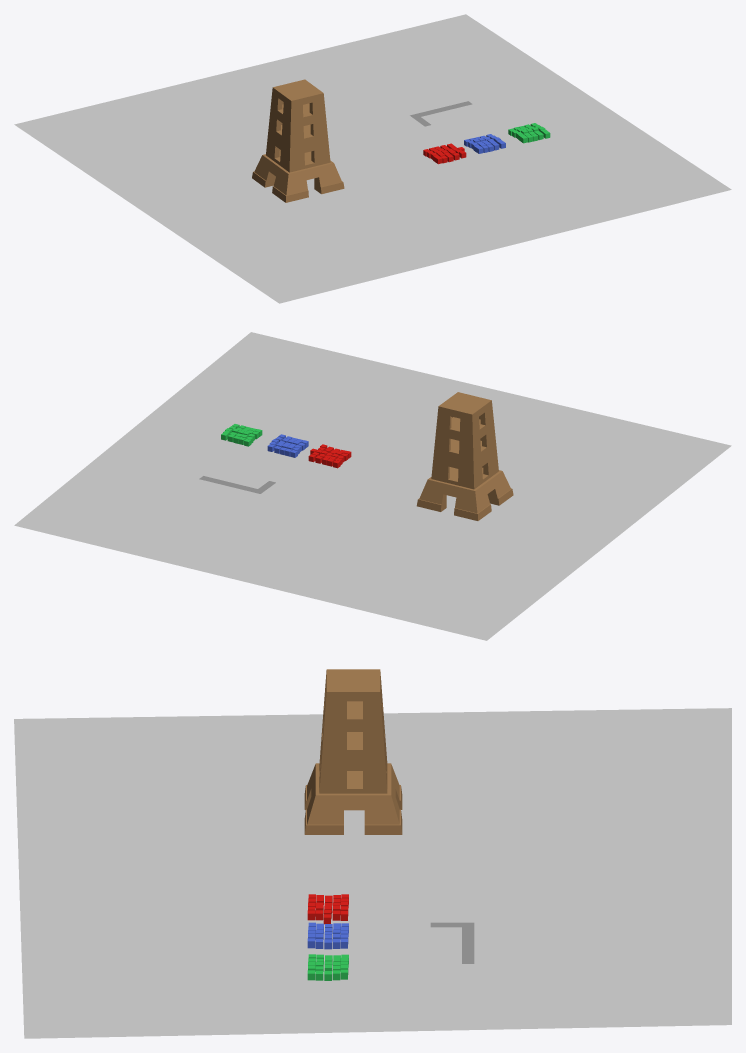
File: MBZIRC.dae
The picture shows the model from 3 angles, top to bottom: view 1: azimuth 30°, elevation 25°; view 2: azimuth 150°, elevation 25°; view 3: azimuth 270°, elevation 25°; orthographic projection. The views are drawn at different scales.
Parts seen in each view (by area): view 1: Plane, Cube; view 2: Plane, Cube; view 3: Plane, Cube, Plane_001.
Part boxes in pixels (box(x1,y1,x2,y2)): Plane: box(14, 14, 731, 303); Cube: box(252, 79, 344, 202); Plane: box(14, 332, 731, 640); Cube: box(416, 392, 513, 520); Plane: box(14, 708, 731, 1038); Cube: box(304, 669, 402, 834); Plane_001: box(430, 922, 474, 963).
Bounding box in the file's own units: 56.58 × 51.92 × 10.75.
